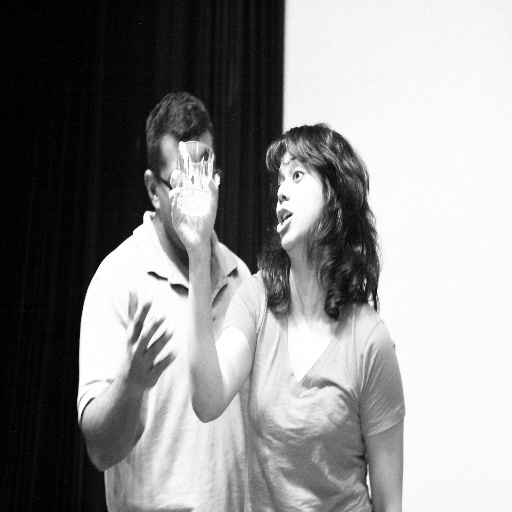hand: (92, 285, 176, 444), (167, 140, 219, 256)
